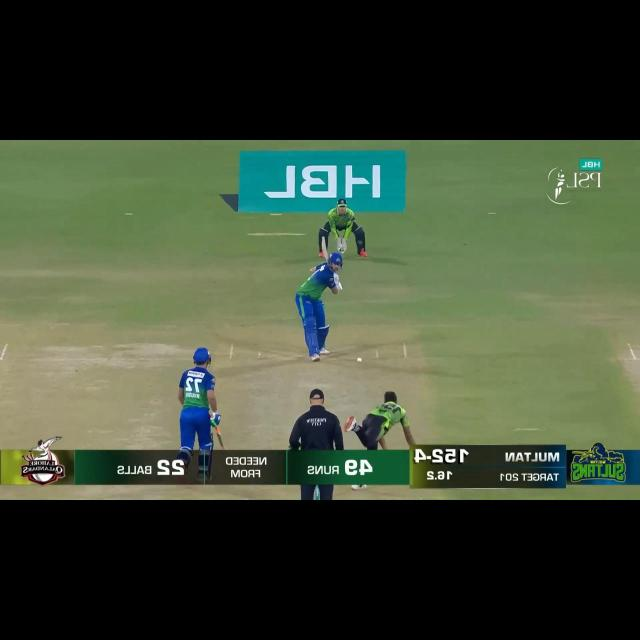bat: (320, 237, 331, 263), (215, 430, 228, 452)
toe: (320, 236, 328, 242)
